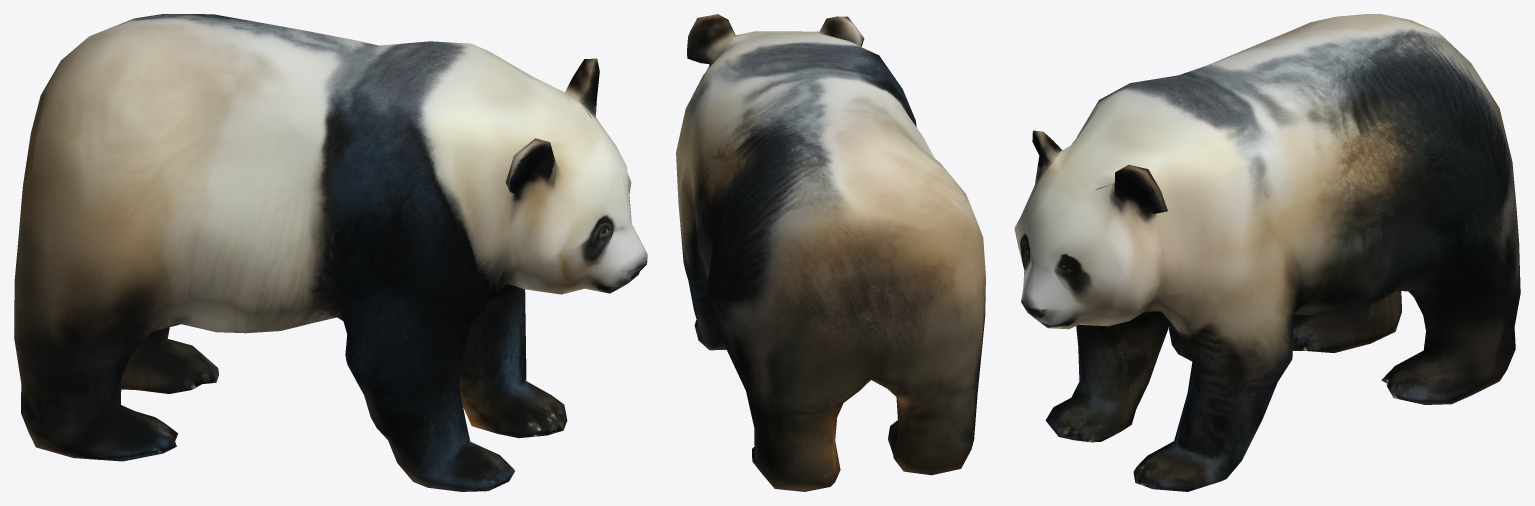
The model's file is panda_single_1500.glb.
The picture shows the model from 3 angles, left to right: view 1: azimuth 30°, elevation 25°; view 2: azimuth 150°, elevation 25°; view 3: azimuth 270°, elevation 25°; orthographic projection. The views are drawn at different scales.
Size of the model in its own units: 0.8876 by 0.6963 by 0.9039.
Materials: 1 (1 with a texture image).
